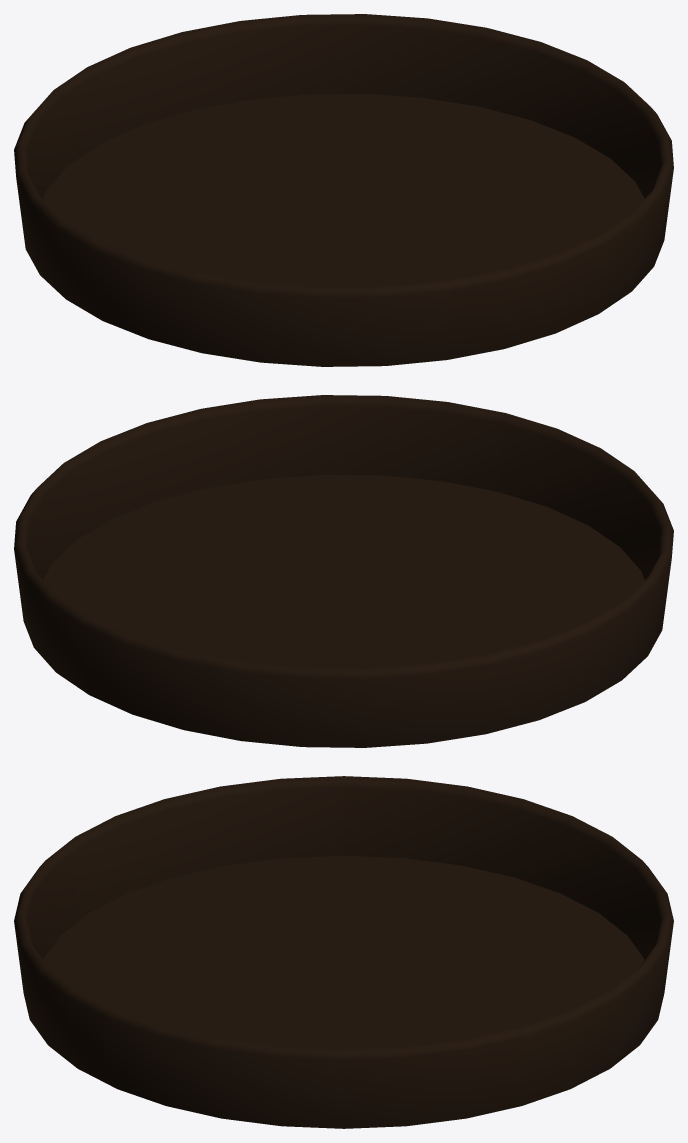
The model's file is Basket_Round_Small.glb.
3 renders of one model, top to bottom at view 1: azimuth 30°, elevation 25°; view 2: azimuth 150°, elevation 25°; view 3: azimuth 270°, elevation 25°, orthographic.
Visible parts, largest first — view 1: Basket_Round_Small; view 2: Basket_Round_Small; view 3: Basket_Round_Small.
Boxes of the visible parts, x1,y1,x2,y2 form: Basket_Round_Small: (14,14,673,366); Basket_Round_Small: (14,395,673,747); Basket_Round_Small: (14,776,673,1128).
Size of the model in its own units: 0.6951 by 0.0939 by 0.6951.
1 material, 1 textured.
